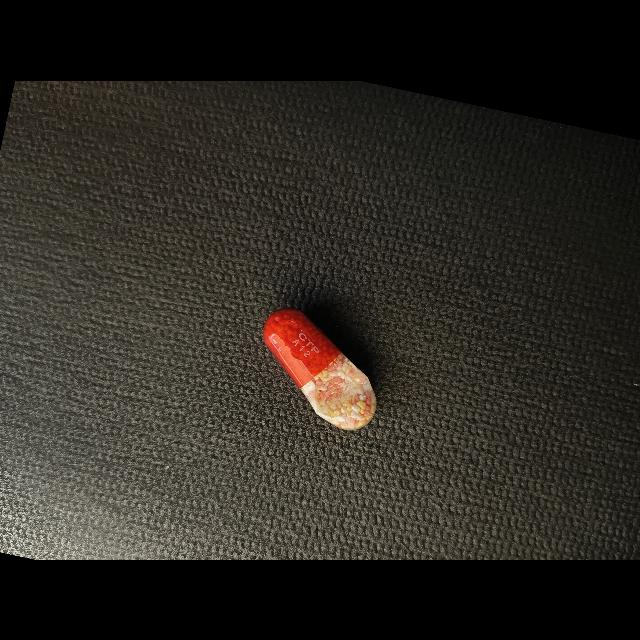Defective Capsule: (263, 308, 377, 430)
